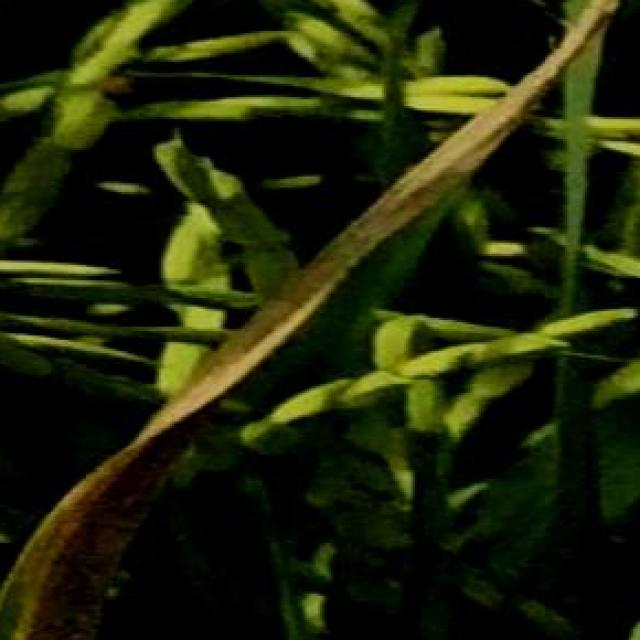Bacterial_Leaf_Blight: (218, 104, 471, 393)
